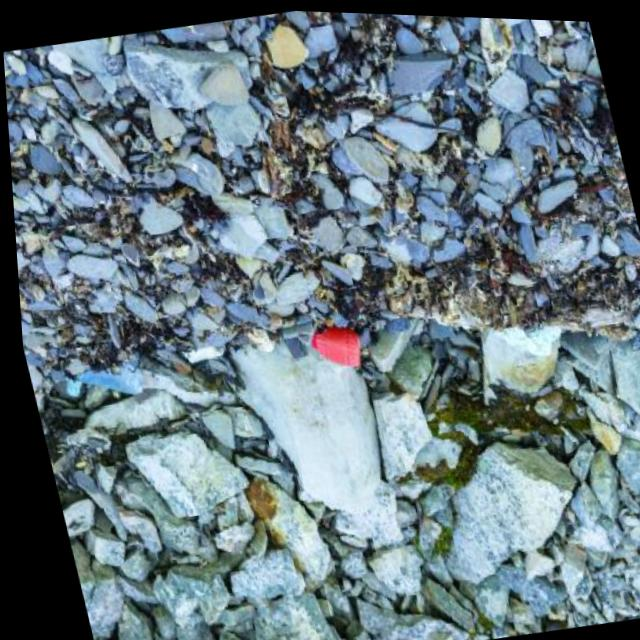plastic: (307, 321, 366, 374)
